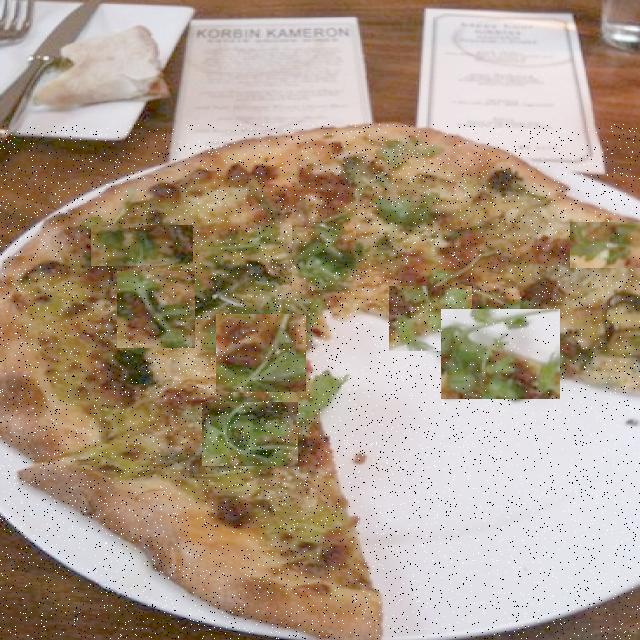Pizza: (0, 124, 640, 640)
Rucola: (442, 309, 562, 399), (216, 314, 306, 392), (356, 138, 432, 228), (202, 402, 298, 467), (117, 272, 195, 350), (389, 286, 472, 351), (292, 222, 356, 290), (91, 225, 193, 266), (570, 222, 640, 268)
